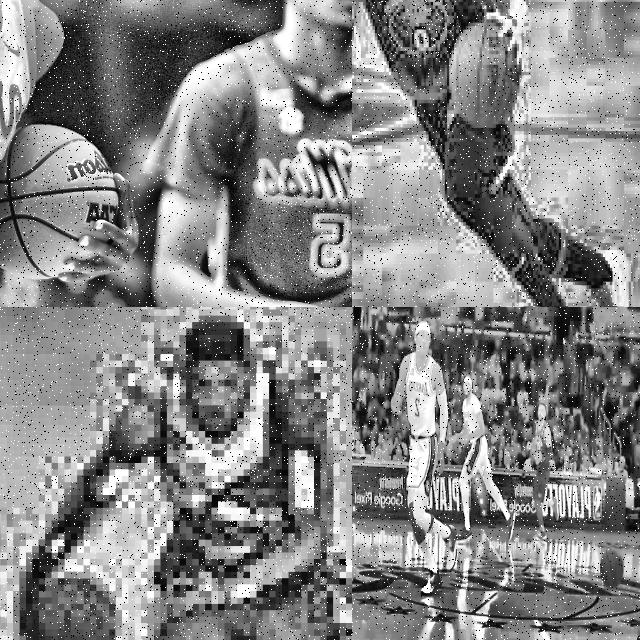Basketball: (0, 125, 118, 280), (449, 19, 519, 128), (600, 549, 624, 588)
